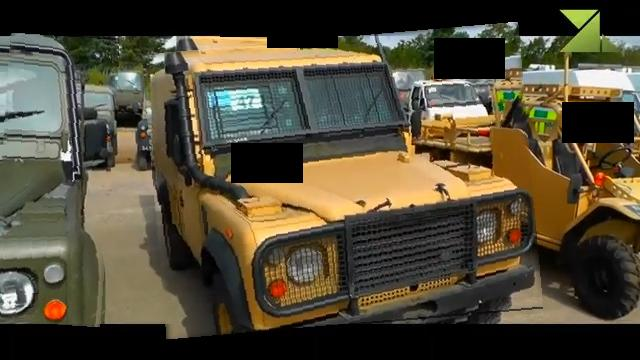MIL_HMMWV: (148, 30, 538, 334), (0, 32, 114, 325)
